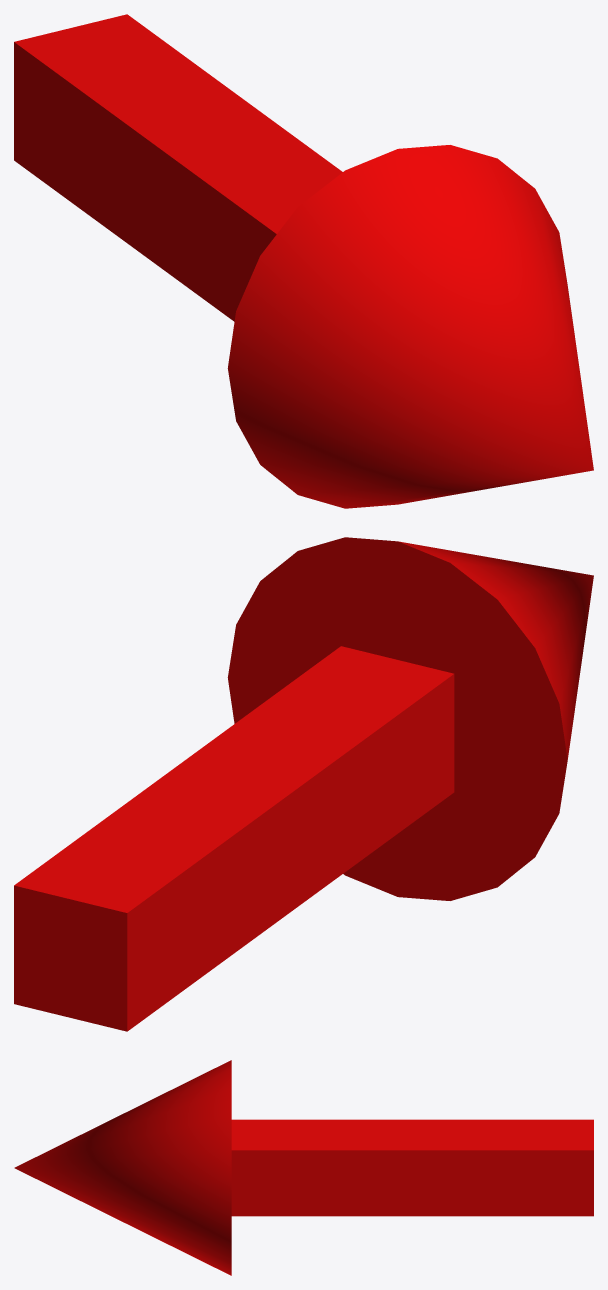
File: Arrow.fbx
The picture shows the model from 3 angles, top to bottom: view 1: azimuth 30°, elevation 25°; view 2: azimuth 150°, elevation 25°; view 3: azimuth 270°, elevation 25°; orthographic projection. The views are drawn at different scales.
Visible parts, largest first — view 1: Cone, pCube1; view 2: pCube1, Cone; view 3: pCube1, Cone.
Boxes of the visible parts, x1,y1,x2,y2 form: Cone: [227, 145, 593, 508]; pCube1: [14, 14, 342, 321]; pCube1: [14, 646, 454, 1031]; Cone: [227, 537, 593, 900]; pCube1: [231, 1119, 593, 1216]; Cone: [14, 1060, 231, 1275].
Bounding box in the file's own units: 60 × 60 × 160.
